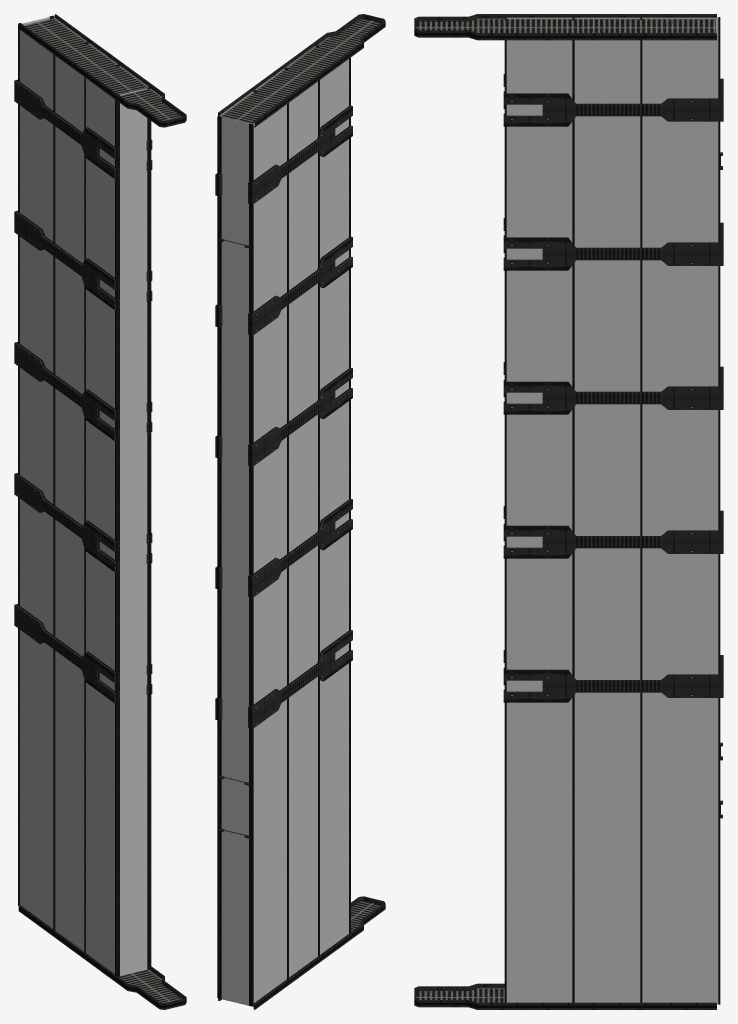
Rendered from Ultra_wire4.fbx.
3 renders of one model, left to right at view 1: azimuth 30°, elevation 25°; view 2: azimuth 150°, elevation 25°; view 3: azimuth 270°, elevation 25°, orthographic. The views are drawn at different scales.
Visible parts, largest first — view 1: polySurface571; view 2: polySurface571; view 3: polySurface571.
Boxes of the visible parts, x1=… form: polySurface571: x1=14, y1=14, x2=186, y2=1009; polySurface571: x1=215, y1=14, x2=385, y2=1009; polySurface571: x1=414, y1=14, x2=723, y2=1009.
Bounding box in the file's own units: 2.28 × 50.39 × 14.49.
